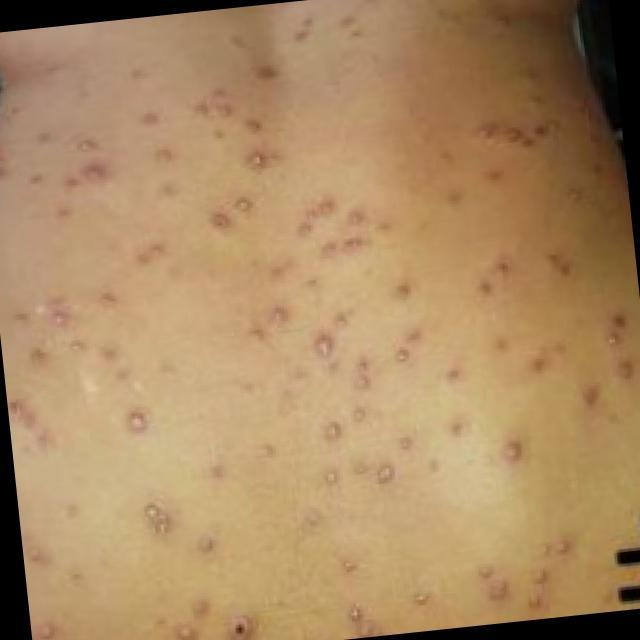Eczema: (0, 39, 640, 616)
